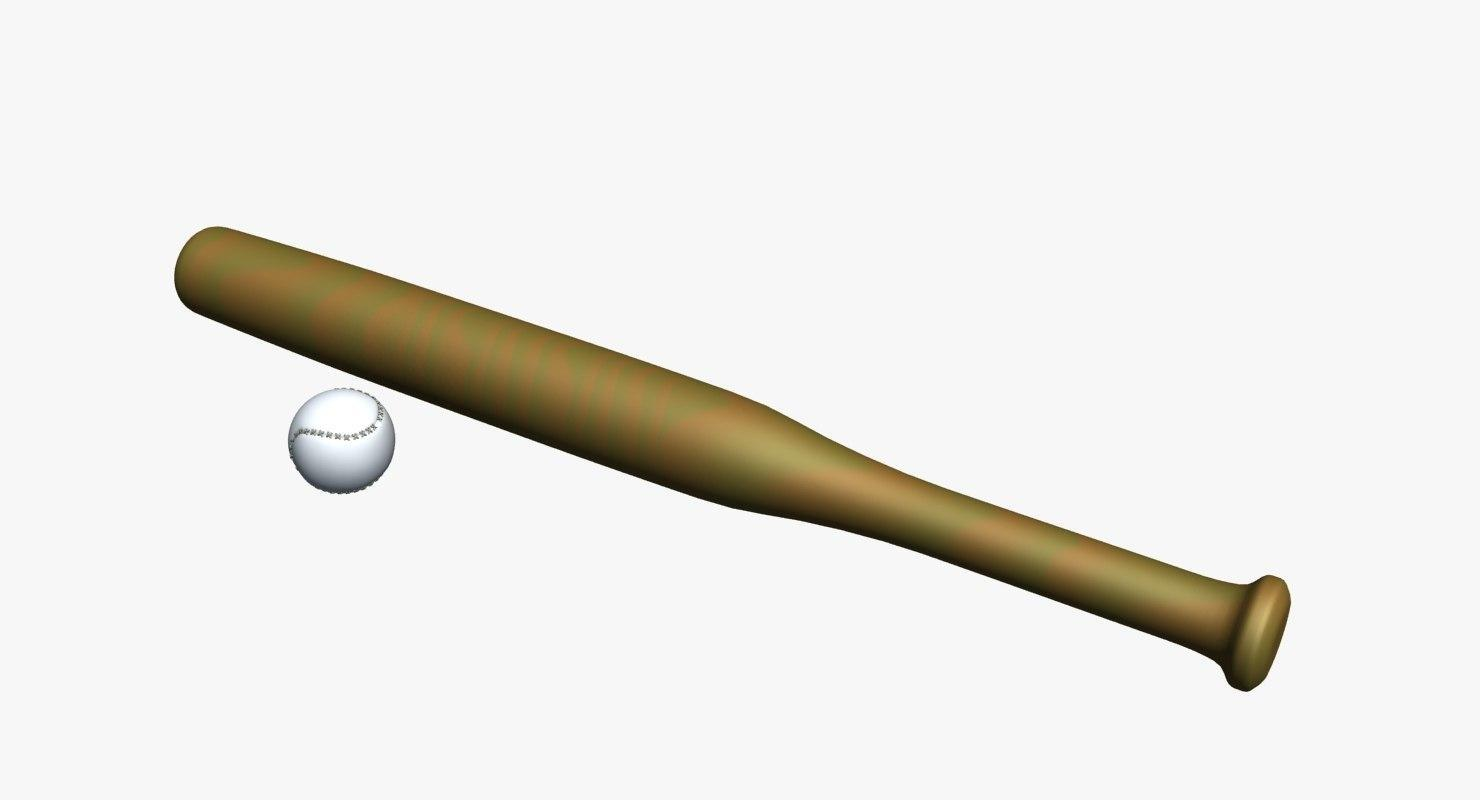Baseball-Bat: (168, 188, 1294, 694)
